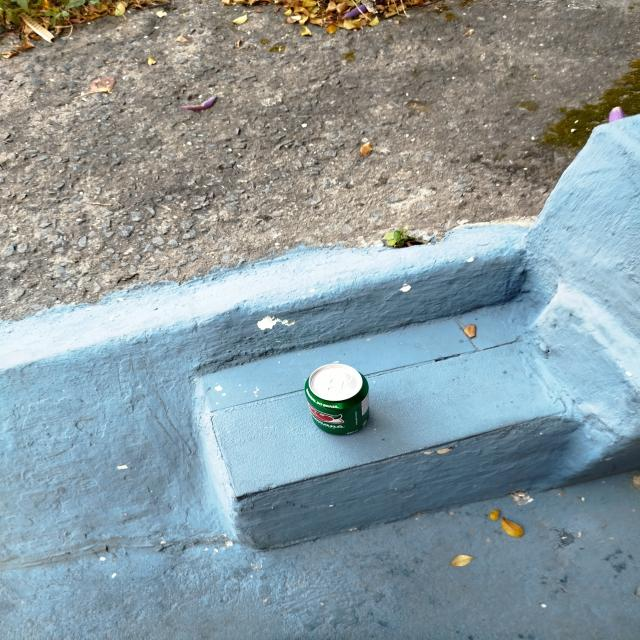Guarana: (304, 362, 372, 436)
